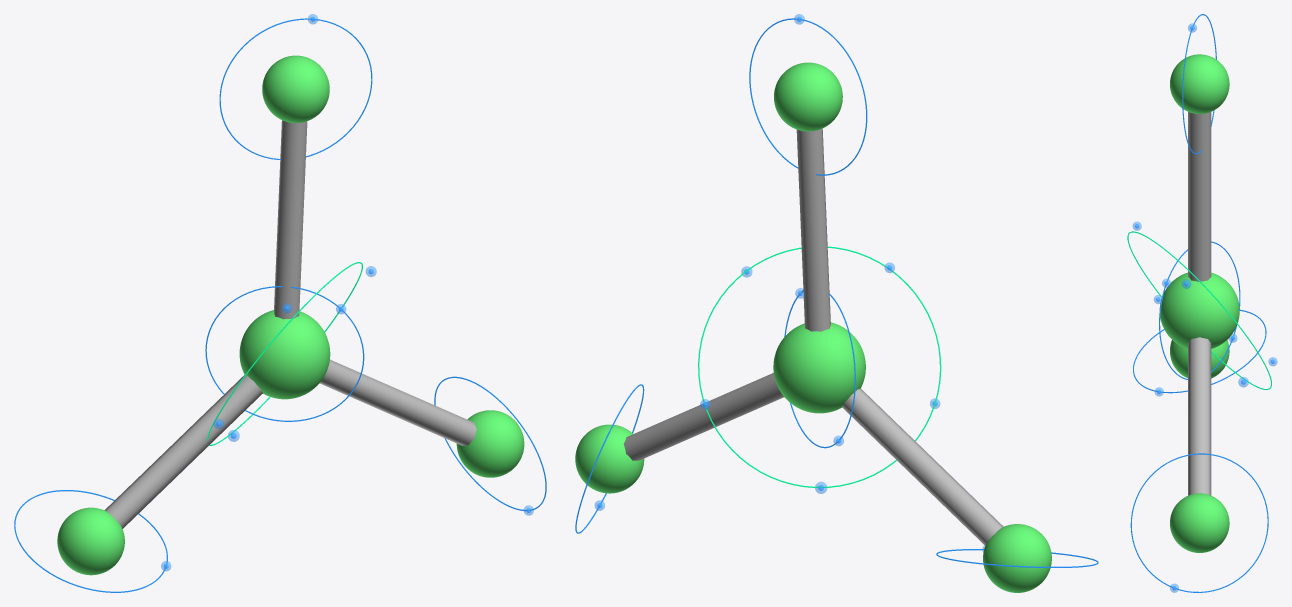
The picture shows the model from 3 angles, left to right: view 1: azimuth 30°, elevation 25°; view 2: azimuth 150°, elevation 25°; view 3: azimuth 270°, elevation 25°; orthographic projection. The views are drawn at different scales.
Visible parts, largest first — view 1: H (×3), N, object 30, object 32, object 31, object 27, object 2, object 19, object 7; view 2: H (×3), N, object 30, object 32, object 31, object 7, object 27; view 3: H (×3), N, object 32, object 31, object 23, object 7, object 2, object 27, object 19.
Part boxes in pixels (bbox=[...]): H (×3): bbox=[57, 55, 524, 575]; N: bbox=[239, 310, 330, 399]; object 30: bbox=[104, 375, 262, 528]; object 32: bbox=[274, 120, 307, 319]; object 31: bbox=[319, 359, 476, 445]; object 27: bbox=[219, 18, 372, 159]; object 2: bbox=[205, 286, 364, 421]; object 19: bbox=[14, 490, 167, 592]; object 7: bbox=[207, 262, 362, 445]; H (×3): bbox=[575, 62, 1051, 592]; N: bbox=[773, 322, 865, 413]; object 30: bbox=[842, 388, 1003, 545]; object 32: bbox=[796, 128, 830, 331]; object 31: bbox=[623, 373, 783, 460]; object 7: bbox=[698, 246, 941, 487]; object 27: bbox=[749, 18, 867, 175]; H (×3): bbox=[1170, 54, 1229, 552]; N: bbox=[1159, 272, 1239, 348]; object 32: bbox=[1188, 112, 1211, 281]; object 31: bbox=[1188, 337, 1211, 495]; object 23: bbox=[1130, 453, 1268, 592]; object 7: bbox=[1127, 231, 1271, 389]; object 2: bbox=[1159, 241, 1240, 379]; object 27: bbox=[1182, 14, 1216, 154]; object 19: bbox=[1133, 309, 1266, 393].
Size of the model in its own units: 8.71 by 9.14 by 2.58.
